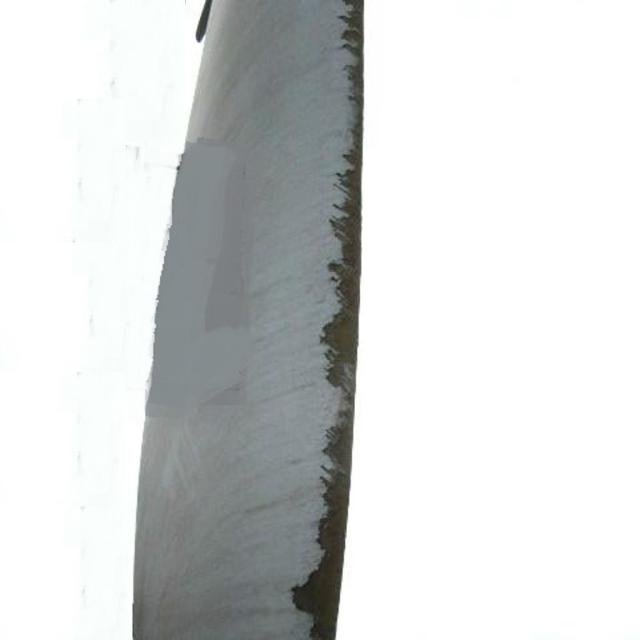corrosion: (288, 314, 358, 640), (334, 4, 365, 305)
